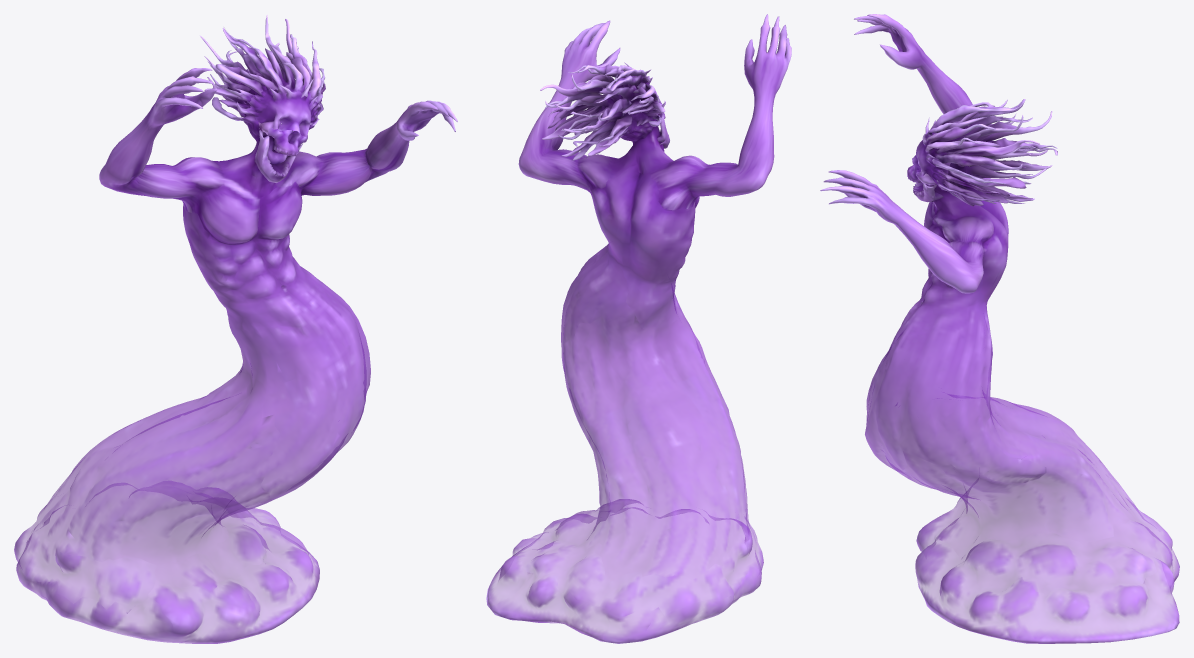
The model's file is MZ4250 - Specter_purple.glb.
3 views of the same model, side by side, from view 1: azimuth 30°, elevation 25°; view 2: azimuth 150°, elevation 25°; view 3: azimuth 270°, elevation 25° (orthographic). The views are drawn at different scales.
Parts seen in each view (by area): view 1: Body.002; view 2: Body.002; view 3: Body.002.
Part boxes in pixels (x1,y1,x2,y2): Body.002: (14, 14, 457, 643); Body.002: (486, 14, 791, 643); Body.002: (820, 14, 1179, 643).
Size of the model in its own units: 58.91 by 112 by 66.02.
Materials: 1 (1 with a texture image).
